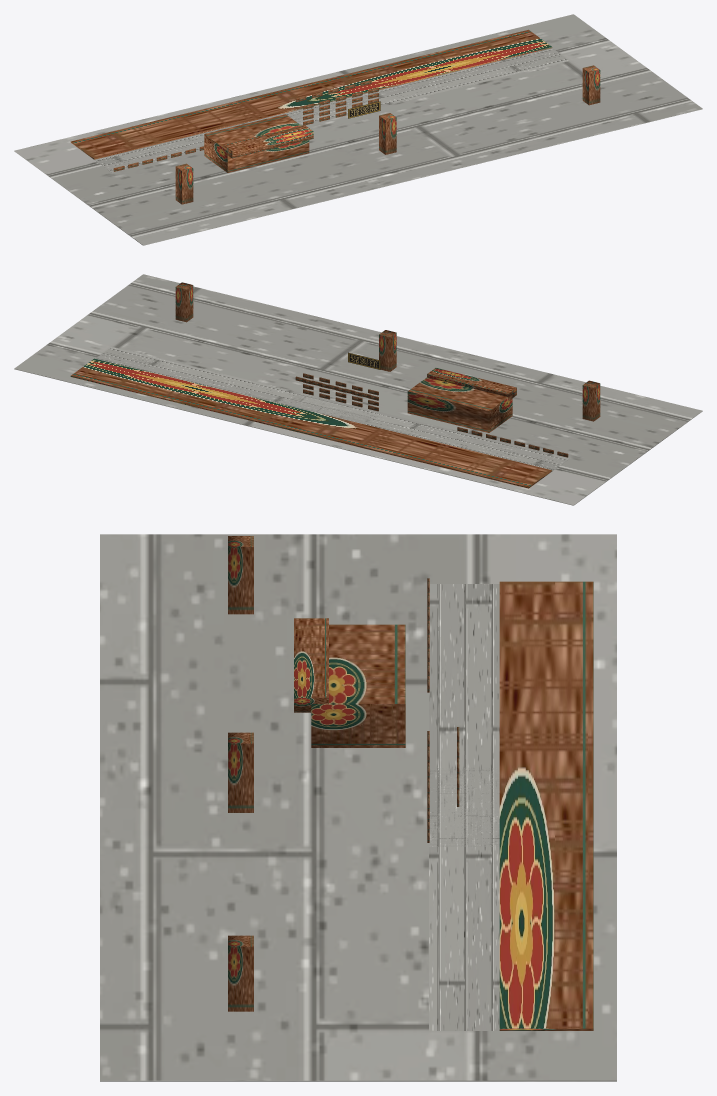
3 renders of one model, top to bottom at view 1: azimuth 30°, elevation 25°; view 2: azimuth 150°, elevation 25°; view 3: azimuth 270°, elevation 25°, orthographic. The views are drawn at different scales.
Parts seen in each view (by area): view 1: 11140_02_04624_042_01_L2__base, 11140_02_04624_042_02_L2__body, 11140_02_04624_042_06_L2__green, 11140_02_04624_042_05_L2__openings; view 2: 11140_02_04624_042_01_L2__base, 11140_02_04624_042_02_L2__body, 11140_02_04624_042_06_L2__green, 11140_02_04624_042_05_L2__openings; view 3: 11140_02_04624_042_01_L2__base, 11140_02_04624_042_02_L2__body, 11140_02_04624_042_06_L2__green, 11140_02_04624_042_05_L2__openings.
Part boxes in pixels (x1,y1,x2,y2): 11140_02_04624_042_01_L2__base: [14, 14, 702, 245]; 11140_02_04624_042_02_L2__body: [70, 29, 552, 172]; 11140_02_04624_042_06_L2__green: [175, 65, 600, 204]; 11140_02_04624_042_05_L2__openings: [113, 80, 378, 171]; 11140_02_04624_042_01_L2__base: [14, 274, 702, 505]; 11140_02_04624_042_02_L2__body: [70, 358, 552, 488]; 11140_02_04624_042_06_L2__green: [175, 282, 600, 421]; 11140_02_04624_042_05_L2__openings: [295, 373, 568, 457]; 11140_02_04624_042_01_L2__base: [100, 534, 616, 1081]; 11140_02_04624_042_02_L2__body: [294, 581, 593, 1030]; 11140_02_04624_042_06_L2__green: [228, 536, 253, 1011]; 11140_02_04624_042_05_L2__openings: [427, 578, 459, 842].
Bounding box in the file's own units: 110 × 6.6 × 44.
4 materials, 4 textured.
